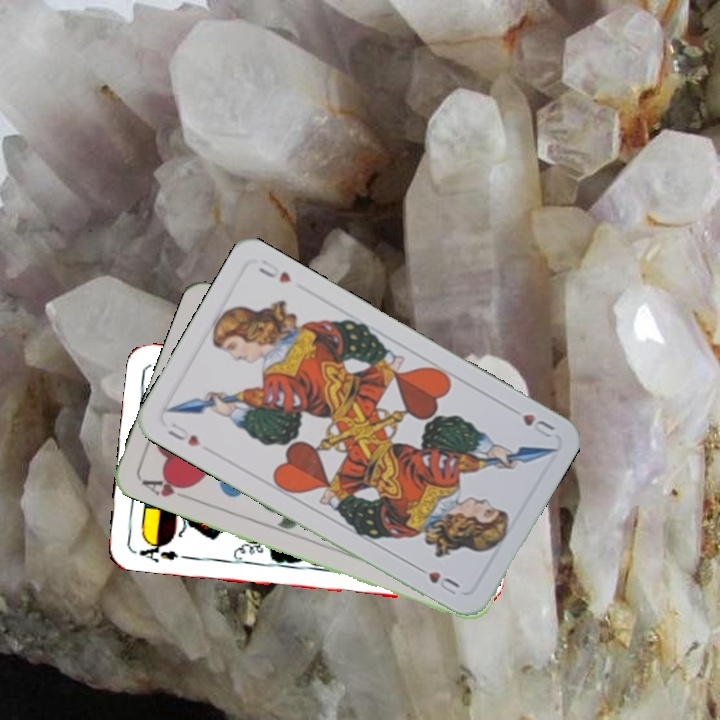EA: (135, 536, 181, 565)
HA: (137, 472, 195, 503)
HU: (163, 417, 203, 449), (518, 409, 557, 440)
